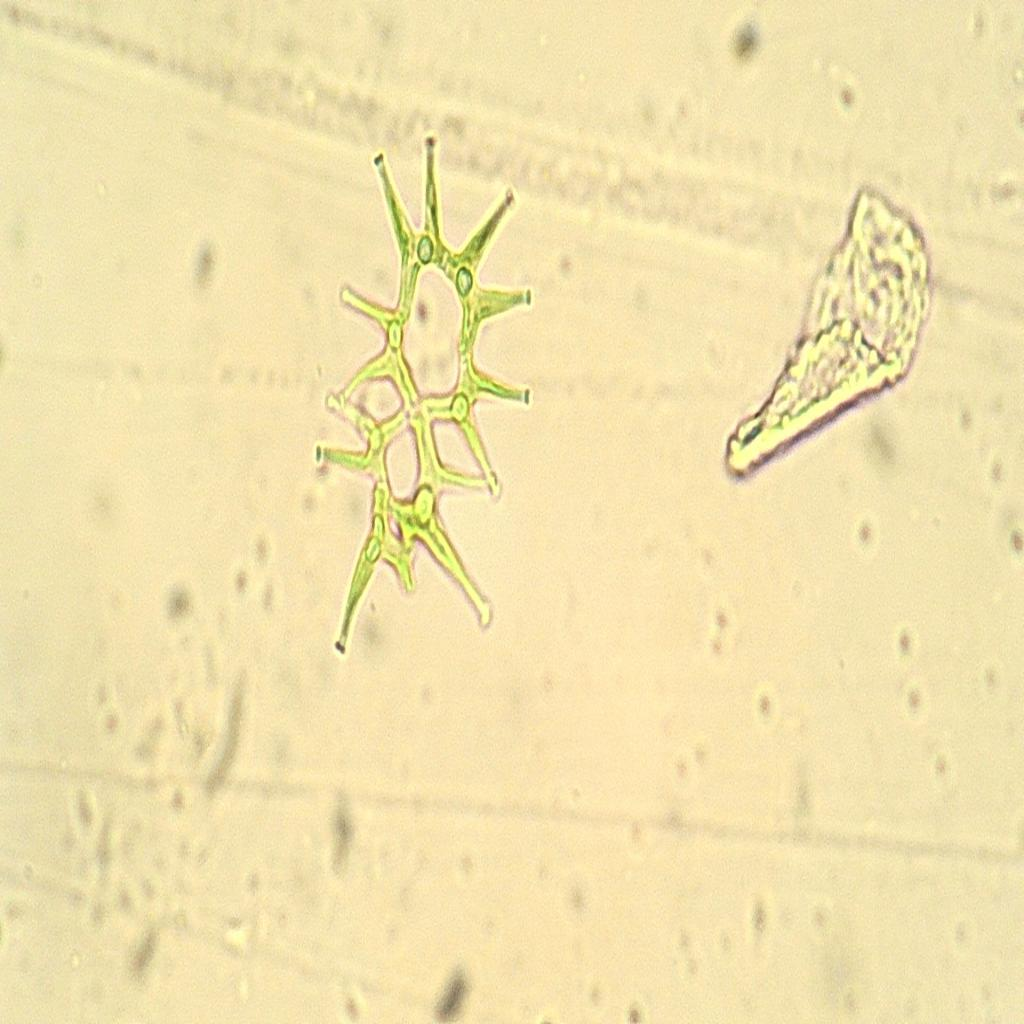Pediastrum_CFI: (310, 92, 536, 678)
